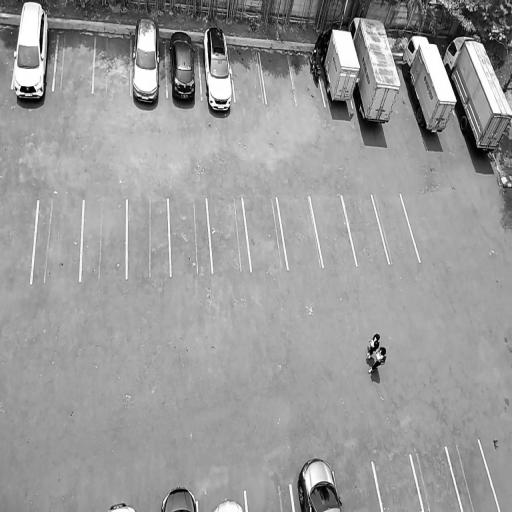Car: (441, 31, 512, 162), (396, 28, 460, 141), (348, 19, 401, 127), (11, 0, 50, 104), (316, 21, 362, 109), (131, 9, 165, 110), (200, 19, 233, 116), (167, 21, 199, 112), (292, 453, 339, 512), (155, 483, 198, 512), (208, 494, 244, 512), (106, 501, 136, 512)
Space Available: (32, 200, 83, 284), (446, 440, 499, 512), (82, 200, 126, 283), (342, 192, 389, 266), (310, 195, 357, 267), (277, 195, 322, 269), (410, 447, 462, 510), (374, 192, 419, 264), (128, 199, 169, 278), (170, 198, 212, 274), (207, 198, 251, 270), (0, 199, 37, 283), (244, 198, 287, 269), (374, 457, 423, 512), (53, 30, 95, 90), (93, 32, 131, 92), (333, 464, 380, 512), (229, 46, 267, 103), (259, 48, 297, 104), (245, 486, 294, 512), (0, 19, 18, 89)
